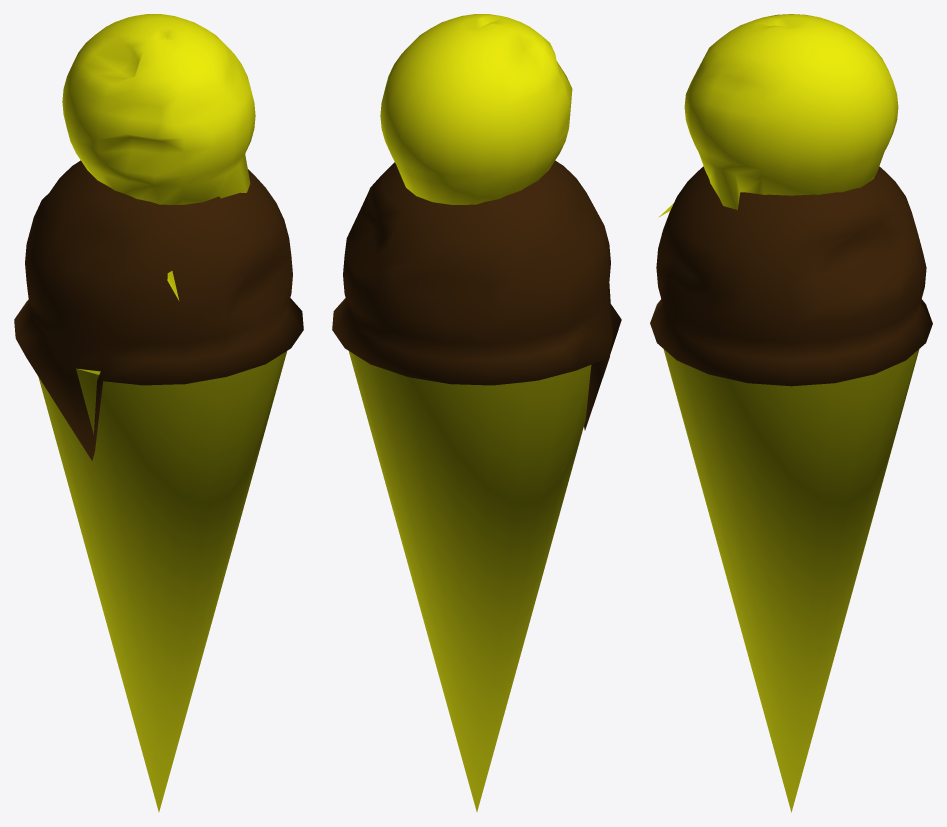
Rendered from ice_cream_cone.fbx.
3 views of the same model, side by side, from view 1: azimuth 30°, elevation 25°; view 2: azimuth 150°, elevation 25°; view 3: azimuth 270°, elevation 25° (orthographic).
Parts seen in each view (by area): view 1: pSphere1, Cone, pSphere2; view 2: Cone, pSphere1, pSphere2; view 3: Cone, pSphere1, pSphere2.
Part boxes in pixels (x1,y1,x2,y2): pSphere1: [14, 160, 303, 460]; Cone: [38, 351, 286, 811]; pSphere2: [62, 14, 255, 300]; Cone: [349, 351, 591, 811]; pSphere1: [332, 160, 621, 430]; pSphere2: [380, 14, 572, 204]; Cone: [663, 349, 919, 812]; pSphere1: [650, 166, 932, 386]; pSphere2: [658, 14, 898, 217].
Bounding box in the file's own units: 2.23 × 6.45 × 2.09.
